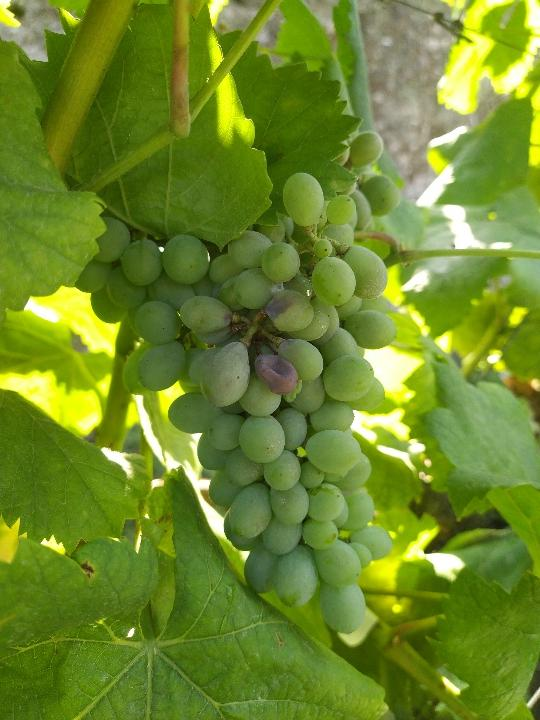grape: (76, 135, 398, 634)
